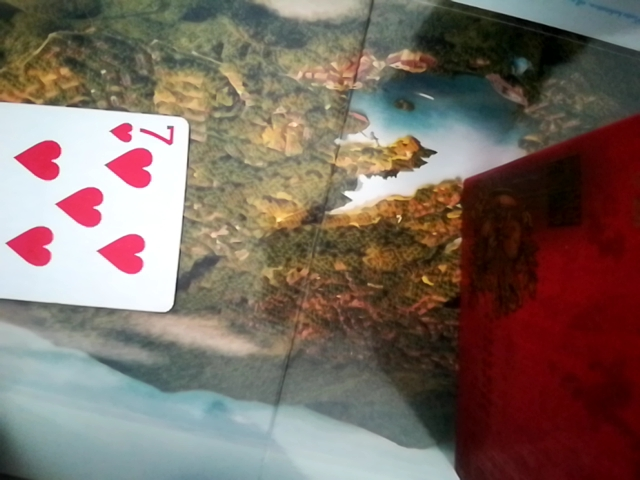hx 7: (0, 90, 189, 309)
